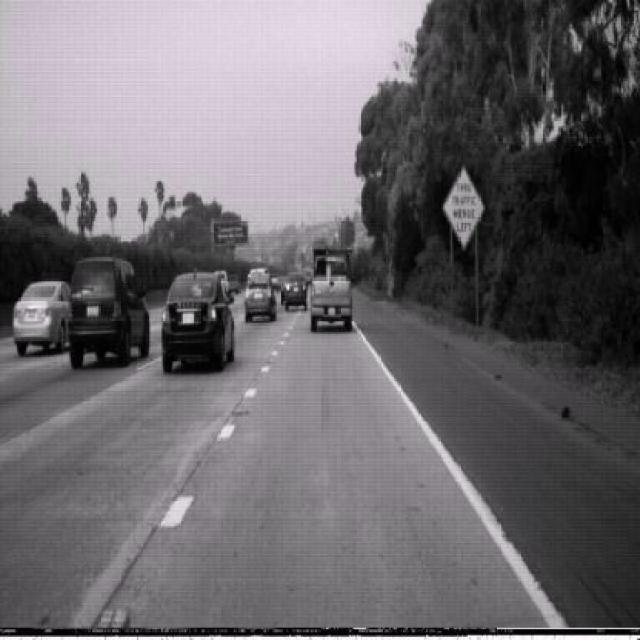thruMergeLeft: (442, 165, 486, 253)
